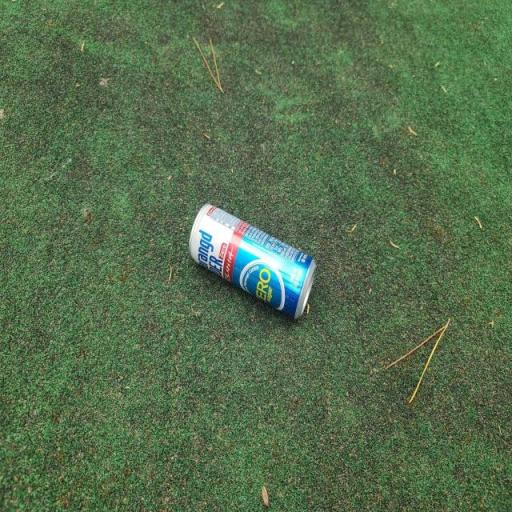metal: (182, 183, 326, 338)
